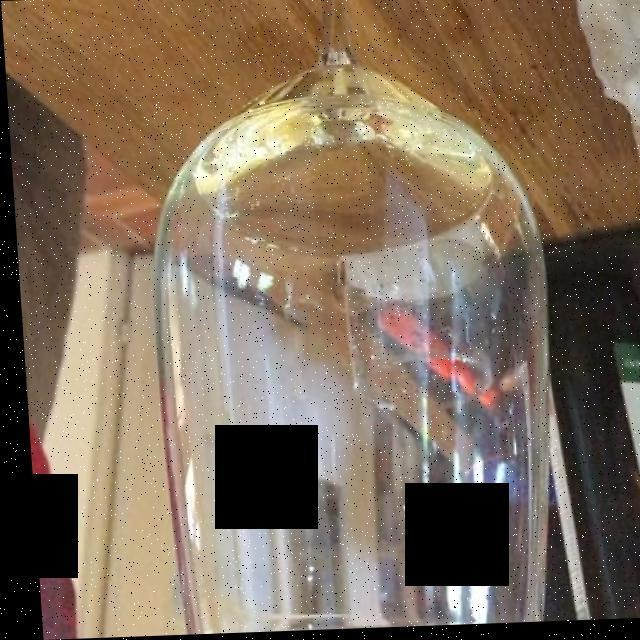wine: (190, 40, 543, 267)
